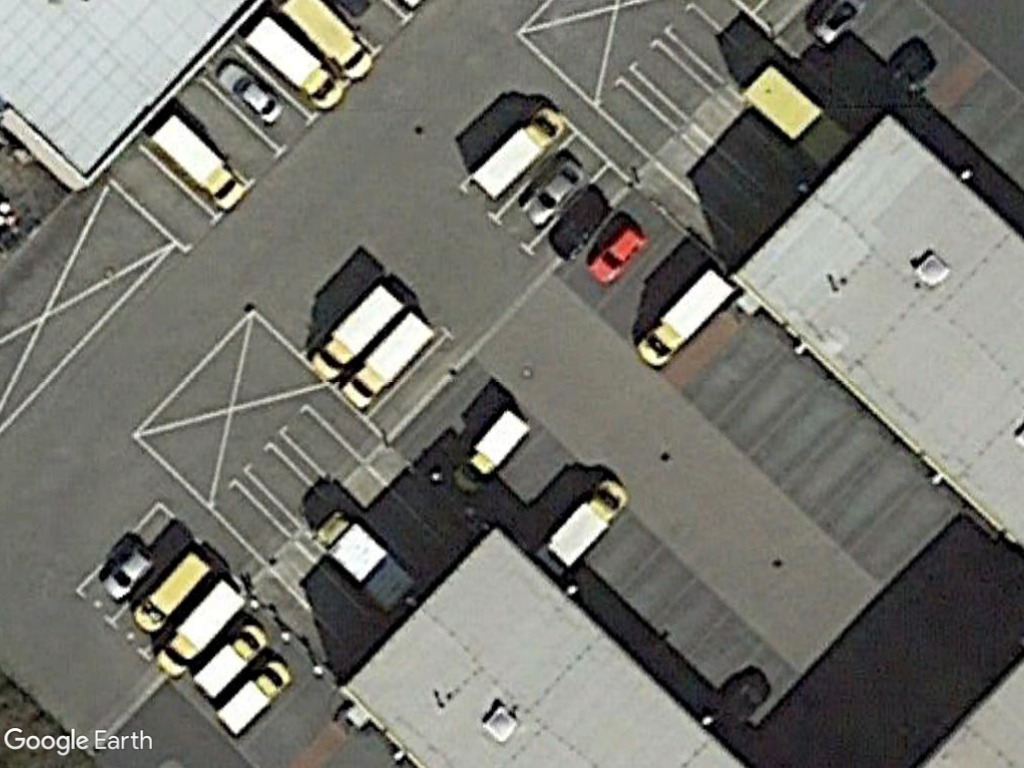car: (212, 59, 286, 126), (585, 222, 647, 289), (99, 541, 157, 603)
truck: (312, 507, 416, 614), (633, 269, 738, 372), (335, 305, 435, 413), (305, 280, 403, 387), (153, 573, 251, 680), (243, 14, 346, 115), (465, 101, 566, 203), (147, 114, 248, 215), (539, 480, 633, 574), (449, 409, 533, 496), (188, 623, 269, 703), (211, 659, 295, 736)
van: (129, 547, 210, 636)
